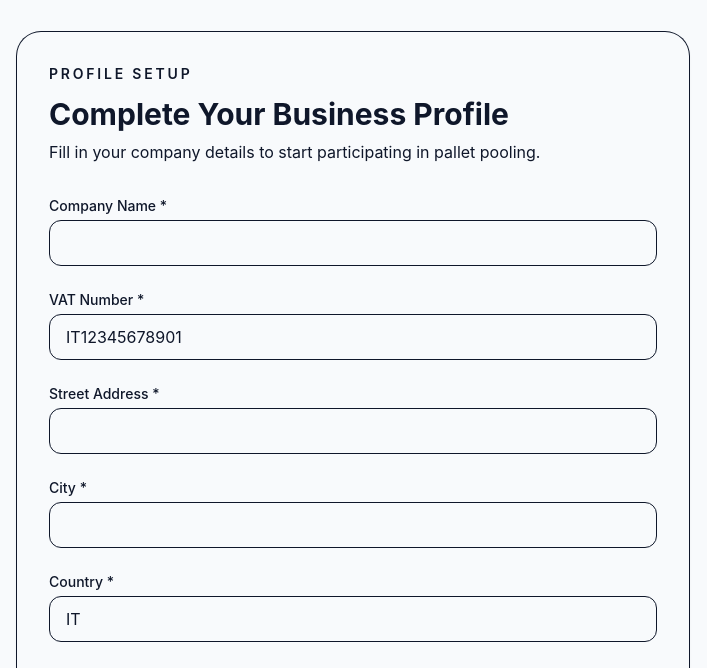
Test: BuyerProfileForm - complete mode › validation › shows errors for all empty required fields on submit
Clear the pre-filled VAT
Clear the field labelled "VAT Number *" at (353, 337), box 49,314 -> 657,360
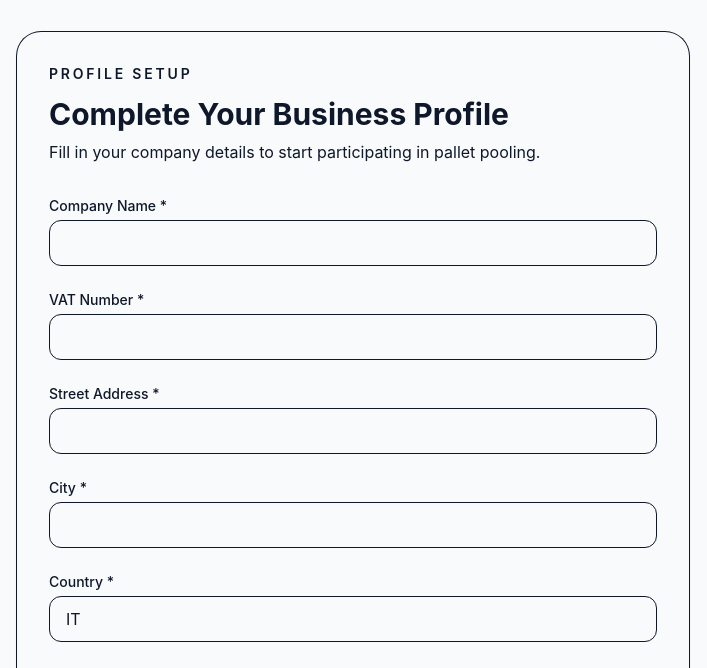
Clear country default
Clear the field labelled "Country *" at (353, 619), box 49,596 -> 657,642
(page scrolled)
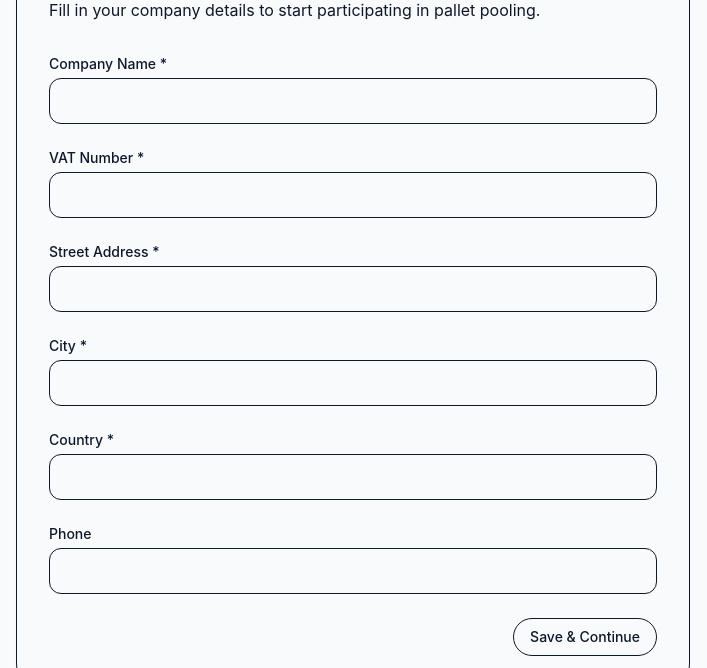
Click the button "Save & Continue" at (585, 637), box 513,618 -> 657,656
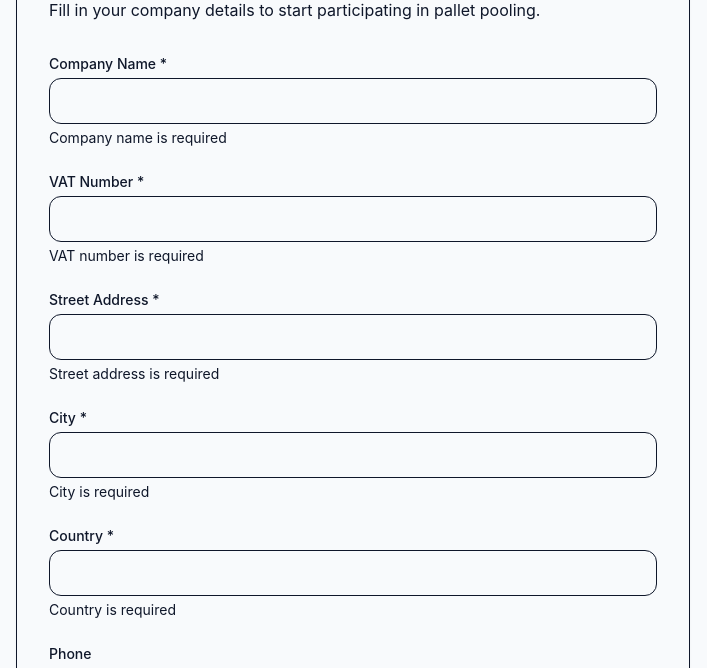
Result: the text "Company name is required" is shown at 49,129 -> 227,146
Result: the text "VAT number is required" is shown at 49,247 -> 204,264
Result: the text "Street address is required" is shown at 49,365 -> 219,382
